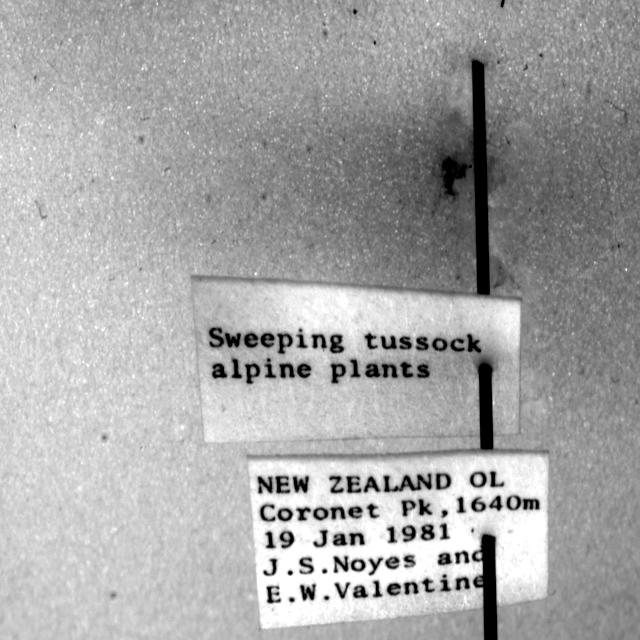typed_label: (192, 278, 521, 442), (248, 450, 549, 628)
